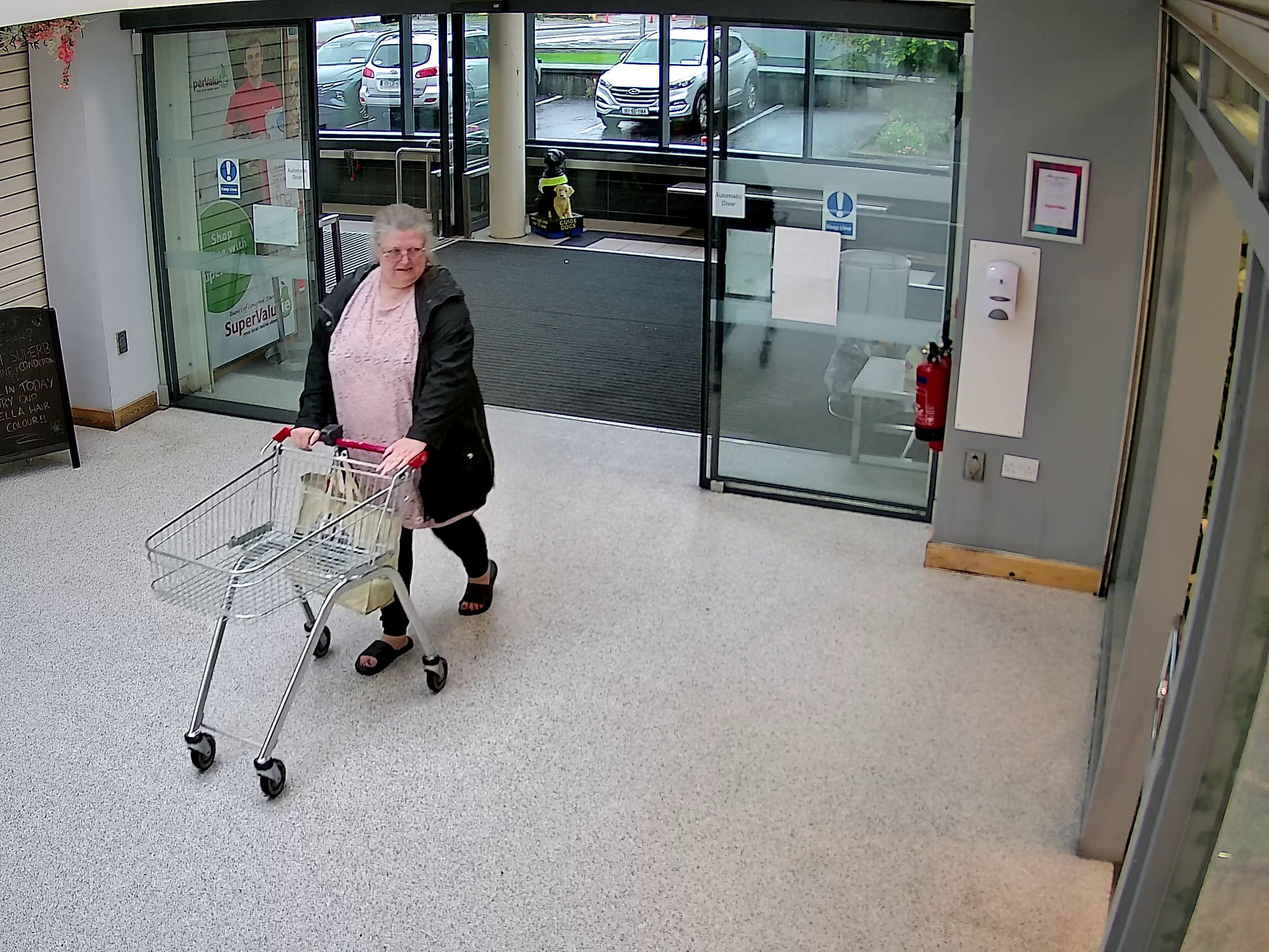empty-shopping-bags: (289, 471, 402, 616)
empty-trolly: (146, 426, 448, 797)
person: (290, 204, 498, 676)
person-with-basket-trolly-and-shopping-bag: (149, 203, 497, 800)
